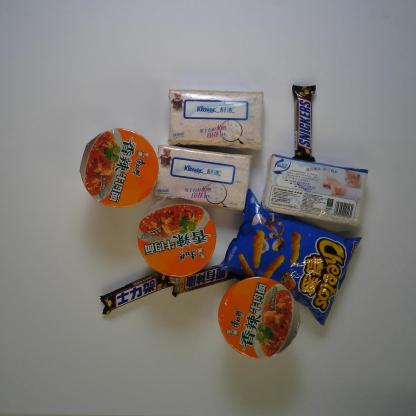Chocolate: (99, 271, 176, 318), (172, 263, 237, 303), (291, 84, 317, 163)
Instant Noodles: (215, 274, 303, 358), (136, 193, 218, 280), (78, 127, 162, 211)
Puffed Food: (210, 186, 364, 328)
Tissue: (261, 153, 369, 229), (149, 144, 254, 211), (165, 86, 265, 152)
